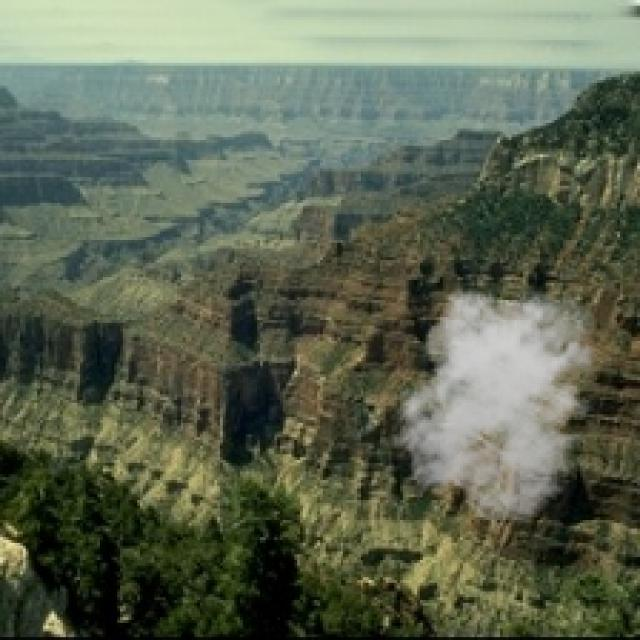smoke: (392, 280, 608, 523)
